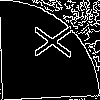X: (25, 24, 72, 59)
